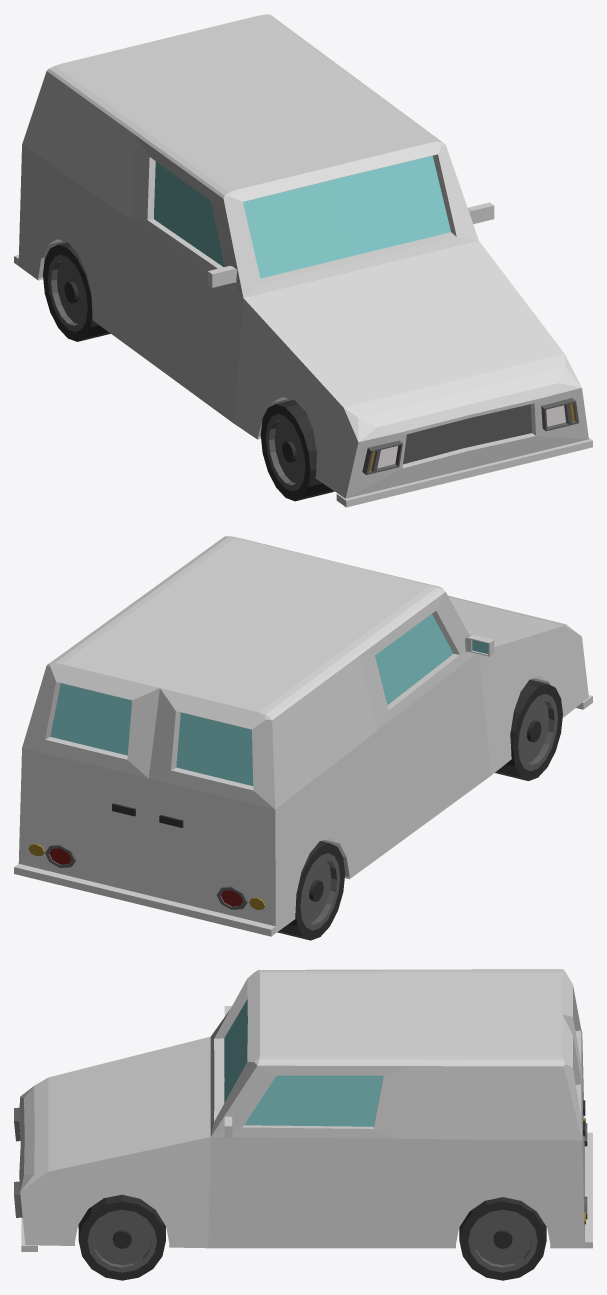
File: VanCar.fbx
3 views of the same model, one above another, from view 1: azimuth 30°, elevation 25°; view 2: azimuth 150°, elevation 25°; view 3: azimuth 270°, elevation 25° (orthographic). The views are drawn at different scales.
Parts seen in each view (by area): view 1: MainColor, Main, FRightTire, RRightTire; view 2: MainColor, Main, FRightTire, RRightTire; view 3: MainColor, Main, FLeftTire, RLeftTire.
Part boxes in pixels (x1=…): MainColor: x1=14, y1=14, x2=592, y2=507; Main: x1=154, y1=156, x2=578, y2=474; FRightTire: x1=260, y1=400, x2=334, y2=501; RRightTire: x1=43, y1=242, x2=110, y2=341; MainColor: x1=14, y1=536, x2=592, y2=936; Main: x1=28, y1=614, x2=488, y2=909; FRightTire: x1=495, y1=679, x2=562, y2=780; RRightTire: x1=277, y1=841, x2=345, y2=940; MainColor: x1=19, y1=969, x2=592, y2=1251; Main: x1=14, y1=999, x2=587, y2=1224; FLeftTire: x1=78, y1=1194, x2=165, y2=1280; RLeftTire: x1=459, y1=1197, x2=546, y2=1280.
Size of the model in its own units: 162 by 133 by 329.
